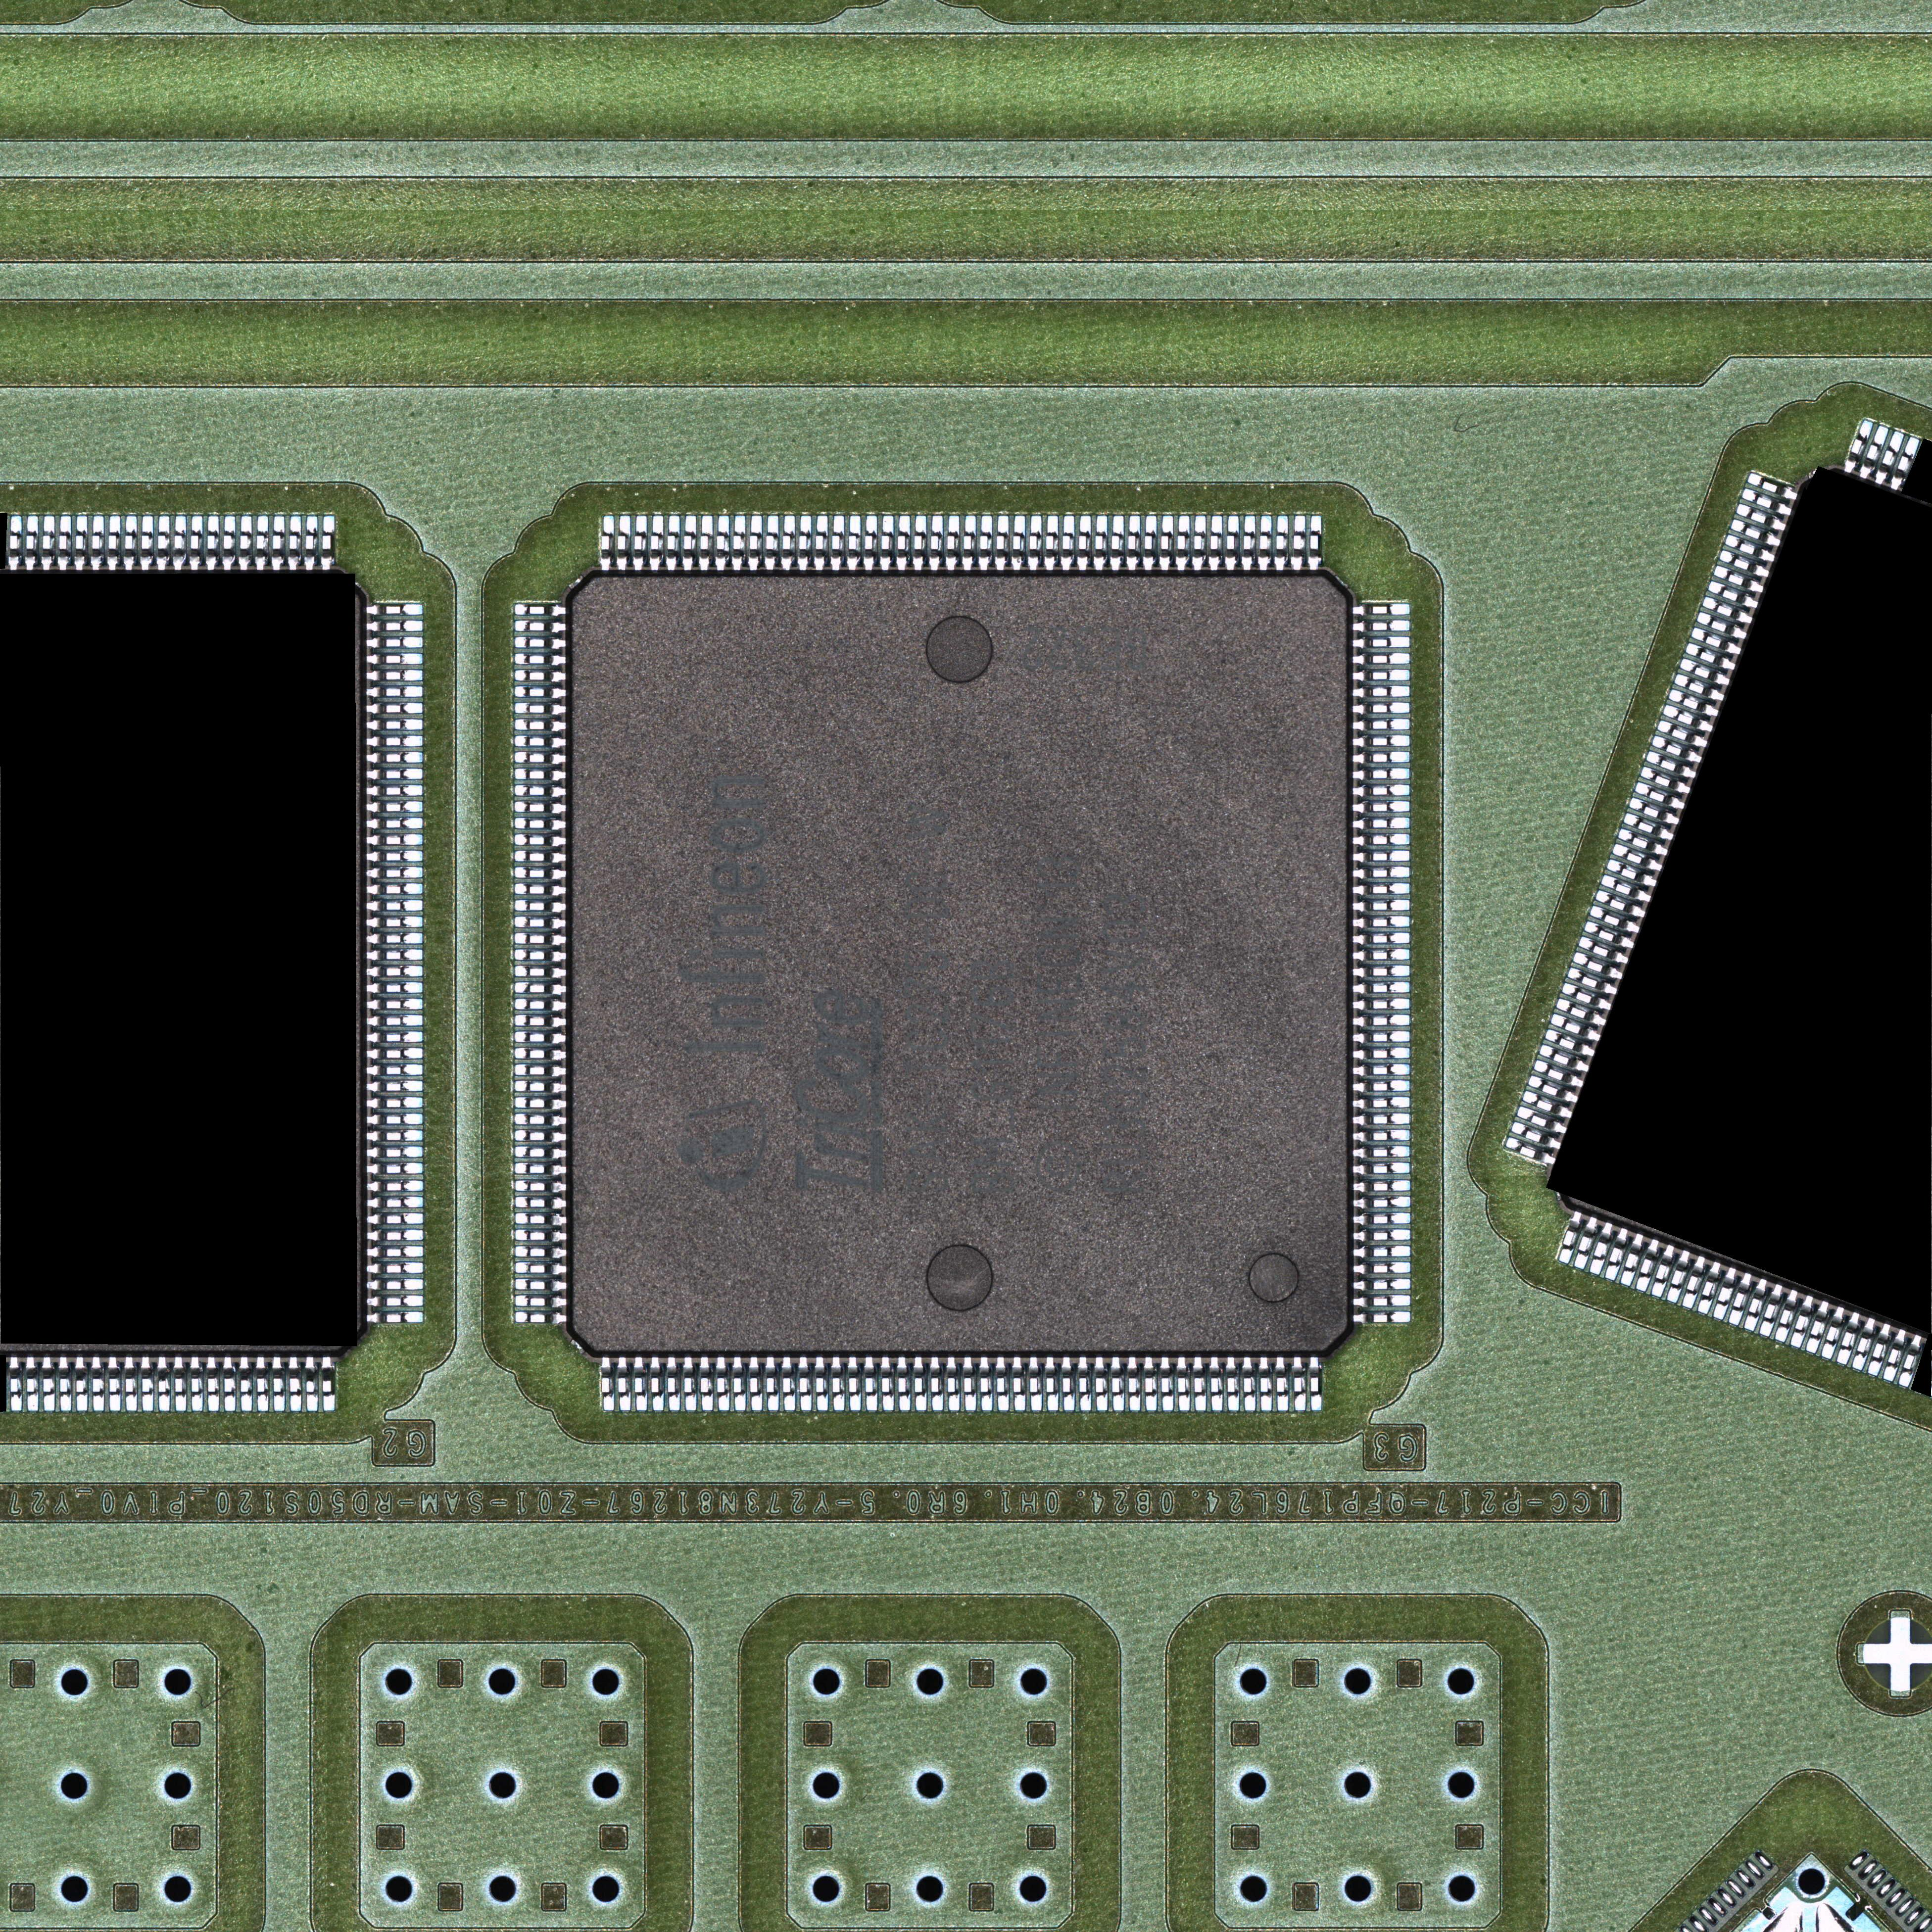Package: (570, 575, 1350, 1353)
Solder: (1888, 433, 1923, 492), (1872, 428, 1907, 487), (1842, 418, 1877, 474), (1858, 423, 1891, 481), (1553, 1210, 1587, 1265), (1601, 1226, 1633, 1283), (1693, 1260, 1725, 1316), (1741, 1277, 1773, 1334), (1771, 1288, 1803, 1345), (1849, 1316, 1881, 1373), (1576, 934, 1631, 966), (1571, 1215, 1603, 1270), (1879, 1329, 1911, 1384), (1895, 1334, 1927, 1389), (1587, 1221, 1617, 1277), (1617, 1231, 1647, 1288), (1633, 1237, 1663, 1293), (1663, 1249, 1693, 1306), (1679, 1254, 1709, 1311), (1709, 1265, 1739, 1322), (1757, 1283, 1787, 1339), (1835, 1311, 1865, 1368), (1865, 1322, 1895, 1378), (1525, 1074, 1580, 1104), (1649, 1244, 1679, 1299), (1725, 1272, 1755, 1327), (1787, 1295, 1817, 1350), (1803, 1300, 1833, 1355), (1819, 1306, 1849, 1361), (1746, 472, 1799, 502), (1734, 502, 1787, 533), (1723, 533, 1776, 563), (1718, 548, 1771, 579), (1695, 610, 1748, 640), (1690, 626, 1743, 656), (1667, 688, 1720, 718), (1661, 704, 1714, 734), (1656, 718, 1709, 748), (1633, 780, 1686, 810), (1628, 796, 1681, 826), (1622, 812, 1675, 842), (1617, 828, 1670, 858), (1612, 842, 1665, 872), (1606, 858, 1660, 888), (1599, 874, 1652, 904), (1594, 888, 1647, 918), (1589, 904, 1642, 934), (1571, 952, 1624, 982), (1566, 966, 1619, 996), (1560, 982, 1614, 1012), (1555, 998, 1608, 1028), (1548, 1012, 1601, 1042), (1543, 1028, 1596, 1058), (1537, 1044, 1591, 1074), (1532, 1058, 1585, 1088), (1520, 1090, 1573, 1120), (1514, 1104, 1568, 1134), (1509, 1120, 1562, 1150), (1504, 1136, 1557, 1166), (1741, 487, 1792, 517), (1713, 564, 1764, 594), (1707, 580, 1759, 610), (1702, 596, 1753, 626), (1684, 642, 1736, 672), (1679, 656, 1730, 686), (1674, 672, 1725, 702), (1651, 734, 1702, 764), (1645, 750, 1697, 780), (1640, 764, 1691, 794), (1583, 920, 1635, 950), (1729, 518, 1782, 547), (1173, 515, 1191, 571), (1350, 685, 1412, 701), (1352, 1178, 1412, 1194), (1352, 1046, 1412, 1062), (1352, 1145, 1412, 1161), (1352, 980, 1412, 996), (1352, 931, 1412, 947), (1352, 667, 1412, 683), (1274, 513, 1290, 571), (1157, 513, 1173, 571), (1060, 513, 1076, 571), (1353, 1277, 1412, 1293), (1353, 1293, 1412, 1309), (1290, 513, 1306, 571), (961, 515, 977, 571), (731, 515, 747, 571), (1141, 515, 1157, 571), (830, 515, 846, 571), (1093, 1355, 1109, 1412), (1026, 515, 1042, 571), (780, 515, 796, 571), (830, 1355, 846, 1412), (1092, 515, 1108, 571), (764, 1355, 780, 1412), (1010, 515, 1026, 571), (1256, 515, 1272, 571), (1175, 1355, 1191, 1412), (796, 515, 812, 571), (747, 515, 763, 571), (846, 515, 862, 571), (1076, 515, 1092, 571), (1307, 515, 1323, 571), (616, 515, 632, 571), (1109, 515, 1125, 571), (895, 515, 911, 571), (681, 515, 697, 571), (715, 515, 731, 571), (812, 515, 828, 571), (1224, 515, 1240, 571), (1353, 602, 1410, 617), (1125, 515, 1141, 571), (814, 1355, 830, 1412), (862, 515, 878, 571), (1042, 515, 1058, 571), (632, 515, 648, 571), (1350, 768, 1412, 782), (600, 1357, 616, 1412), (780, 1357, 796, 1412), (616, 1357, 632, 1412), (1109, 1357, 1125, 1412), (1159, 1357, 1175, 1412), (929, 1357, 945, 1412), (747, 1357, 763, 1412), (1208, 1357, 1224, 1412), (1060, 1357, 1076, 1412), (1292, 1357, 1307, 1412), (1240, 1357, 1256, 1412), (649, 1357, 665, 1412), (715, 1357, 731, 1412), (945, 1357, 961, 1412), (895, 1357, 911, 1412), (994, 1357, 1010, 1412), (513, 1277, 568, 1293), (513, 734, 568, 750), (1274, 1357, 1290, 1412), (681, 1357, 697, 1412), (1044, 1357, 1060, 1412), (513, 931, 568, 947), (7, 515, 23, 570), (25, 515, 41, 570), (57, 515, 73, 570), (41, 515, 57, 570), (124, 515, 140, 570), (106, 515, 122, 570), (90, 515, 106, 570), (140, 515, 156, 570), (156, 515, 172, 570), (173, 515, 189, 570), (189, 515, 205, 570), (205, 515, 221, 570), (223, 515, 239, 570), (239, 515, 255, 570), (322, 515, 338, 570), (288, 515, 304, 570), (272, 515, 288, 570), (25, 1357, 41, 1412), (41, 1357, 57, 1412), (90, 1357, 106, 1412), (74, 1357, 90, 1412), (140, 1357, 156, 1412), (189, 1357, 205, 1412), (205, 1357, 221, 1412), (239, 1357, 255, 1412), (255, 1357, 271, 1412), (304, 1357, 320, 1412), (288, 1357, 304, 1412), (1352, 817, 1412, 832), (1352, 635, 1412, 649), (1352, 865, 1412, 879), (1352, 1095, 1412, 1109), (1352, 998, 1412, 1012), (1352, 915, 1412, 929), (1352, 734, 1412, 748), (1352, 948, 1412, 962), (1352, 964, 1412, 978), (1352, 1014, 1412, 1028), (1352, 1162, 1412, 1177), (1352, 1063, 1412, 1077), (1352, 784, 1412, 798), (1352, 1113, 1412, 1127), (1352, 1244, 1412, 1258), (1352, 750, 1412, 764), (1352, 701, 1412, 715), (1352, 881, 1412, 895), (1352, 800, 1412, 814), (1352, 1030, 1412, 1044), (1352, 1212, 1412, 1226), (1352, 1129, 1412, 1143), (1352, 1079, 1412, 1093), (1352, 899, 1412, 913), (1352, 849, 1412, 863), (1352, 718, 1412, 732), (1352, 619, 1412, 633), (513, 784, 566, 800), (1240, 517, 1256, 570), (513, 619, 566, 635), (1353, 1196, 1412, 1210), (1353, 1261, 1412, 1276), (366, 635, 425, 649), (366, 651, 425, 665), (366, 669, 425, 683), (366, 800, 425, 814), (366, 816, 425, 830), (366, 865, 425, 879), (366, 881, 425, 895), (366, 1095, 425, 1109), (366, 1277, 425, 1292), (600, 515, 614, 571), (798, 1355, 812, 1412), (1192, 1355, 1207, 1412), (1192, 515, 1207, 571), (913, 515, 927, 571), (1077, 1355, 1092, 1412), (1208, 515, 1223, 571), (978, 515, 993, 571), (665, 515, 679, 571), (649, 515, 663, 571), (699, 515, 713, 571), (879, 515, 893, 571), (929, 515, 943, 571), (994, 515, 1008, 571), (1353, 1309, 1410, 1323), (879, 1357, 893, 1412), (699, 1357, 713, 1412), (1012, 1357, 1026, 1412), (978, 1357, 993, 1412), (962, 1357, 977, 1412), (847, 1357, 862, 1412), (1028, 1357, 1042, 1412), (1143, 1357, 1157, 1412), (513, 637, 568, 651), (1258, 1357, 1272, 1412), (1127, 1357, 1141, 1412), (1307, 1357, 1322, 1412), (513, 768, 568, 782), (731, 1357, 745, 1412), (913, 1357, 927, 1412), (764, 515, 778, 570), (945, 515, 959, 570), (1224, 1357, 1238, 1412), (863, 1357, 878, 1412), (513, 1261, 568, 1276), (513, 948, 568, 962), (633, 1357, 648, 1412), (513, 1129, 568, 1143), (513, 1212, 568, 1226), (513, 1079, 568, 1093), (513, 669, 568, 683), (74, 515, 88, 570), (257, 515, 271, 570), (306, 515, 320, 570), (9, 1357, 23, 1412), (58, 1357, 73, 1412), (124, 1357, 138, 1412), (108, 1357, 122, 1412), (157, 1357, 172, 1412), (173, 1357, 188, 1412), (223, 1357, 237, 1412), (322, 1357, 336, 1412), (272, 1357, 287, 1412), (513, 1230, 566, 1244), (513, 1180, 566, 1194), (513, 817, 566, 832), (513, 603, 566, 617), (513, 1196, 566, 1210), (513, 1097, 566, 1111), (513, 1146, 566, 1161), (513, 1246, 566, 1260), (513, 653, 566, 667), (513, 833, 566, 847), (513, 1295, 566, 1309), (513, 1047, 566, 1062), (513, 867, 566, 881), (513, 702, 566, 717), (513, 1113, 566, 1127), (513, 752, 566, 766), (513, 1162, 566, 1177), (513, 916, 566, 931), (513, 1063, 566, 1077), (513, 998, 566, 1012), (513, 883, 566, 897), (513, 801, 566, 816), (513, 1014, 566, 1028), (513, 1030, 566, 1044), (515, 964, 568, 978), (513, 899, 566, 913), (513, 849, 566, 863), (513, 718, 566, 732), (1352, 1230, 1412, 1242), (1352, 653, 1412, 665), (1352, 833, 1412, 846), (515, 982, 566, 996), (366, 619, 425, 632), (366, 685, 425, 697), (366, 702, 425, 715), (366, 718, 425, 731), (366, 734, 425, 747), (366, 750, 425, 763), (366, 768, 425, 780), (366, 784, 425, 796), (366, 833, 425, 846), (366, 849, 425, 862), (366, 899, 425, 911), (366, 915, 425, 927), (366, 932, 425, 945), (366, 948, 425, 961), (366, 964, 425, 977), (366, 980, 425, 993), (366, 998, 425, 1010), (366, 1014, 425, 1026), (366, 1030, 425, 1042), (366, 1046, 425, 1058), (366, 1063, 425, 1076), (366, 1079, 425, 1092), (366, 1113, 425, 1125), (366, 1146, 425, 1159), (366, 1129, 425, 1141), (366, 1178, 425, 1191), (366, 1212, 425, 1224), (366, 1230, 425, 1242), (366, 1244, 425, 1256), (366, 1295, 425, 1307), (366, 1311, 425, 1323), (366, 603, 423, 616), (368, 1162, 425, 1175), (368, 1196, 425, 1208), (368, 1261, 425, 1274), (665, 1357, 678, 1412), (513, 1311, 568, 1323), (513, 686, 566, 699)
